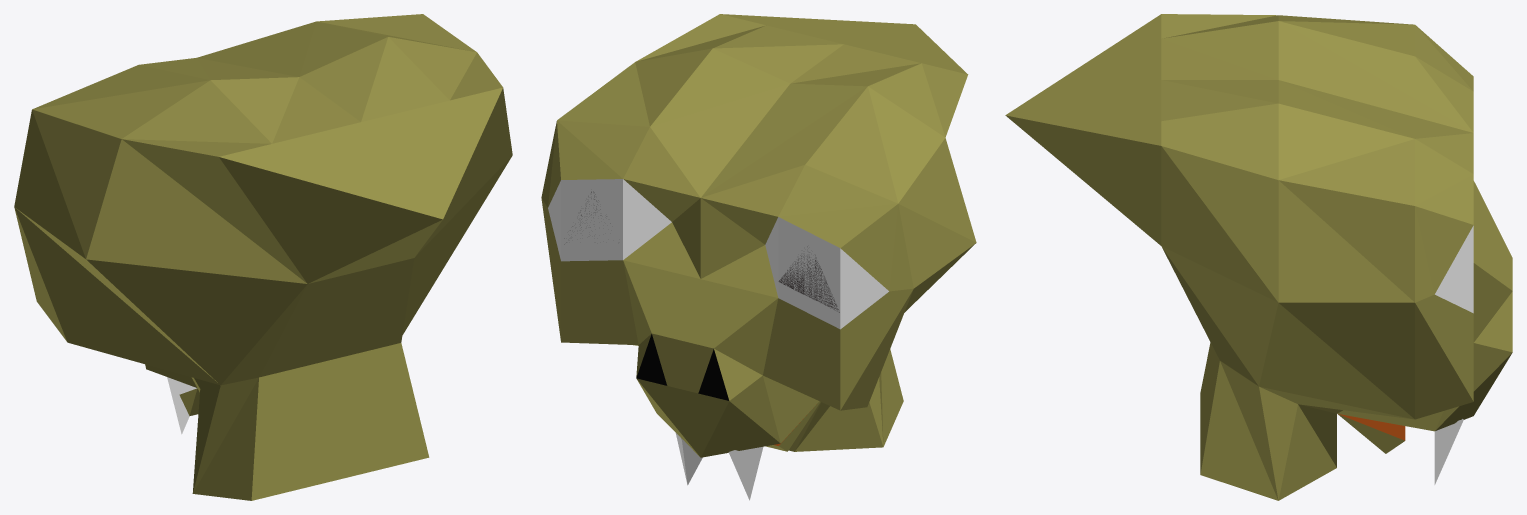
File: npc_chat_skavid_6_0.obj
3 renders of one model, left to right at view 1: azimuth 30°, elevation 25°; view 2: azimuth 150°, elevation 25°; view 3: azimuth 270°, elevation 25°, orthographic. The views are drawn at different scales.
Size of the model in its own units: 0.75 by 0.7188 by 0.8125.
